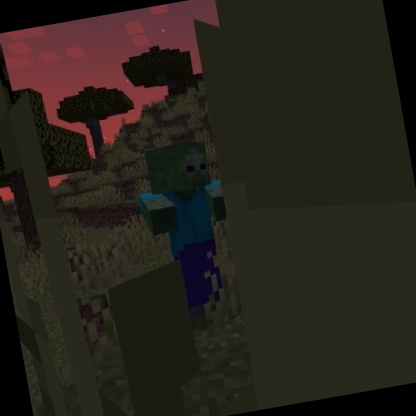zombie: (125, 133, 247, 329)
